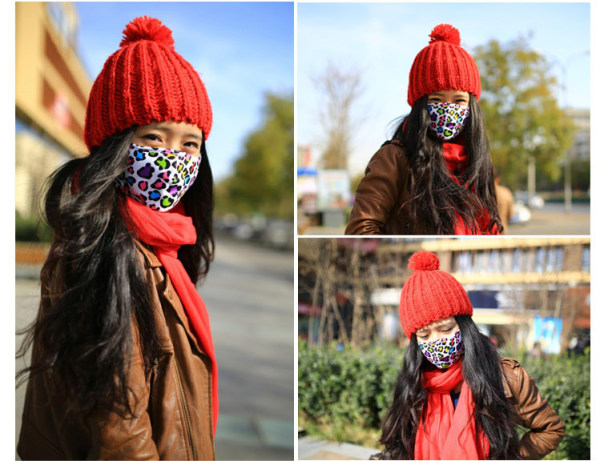face_mask: (120, 118, 203, 211), (415, 320, 464, 369), (424, 91, 469, 139)
